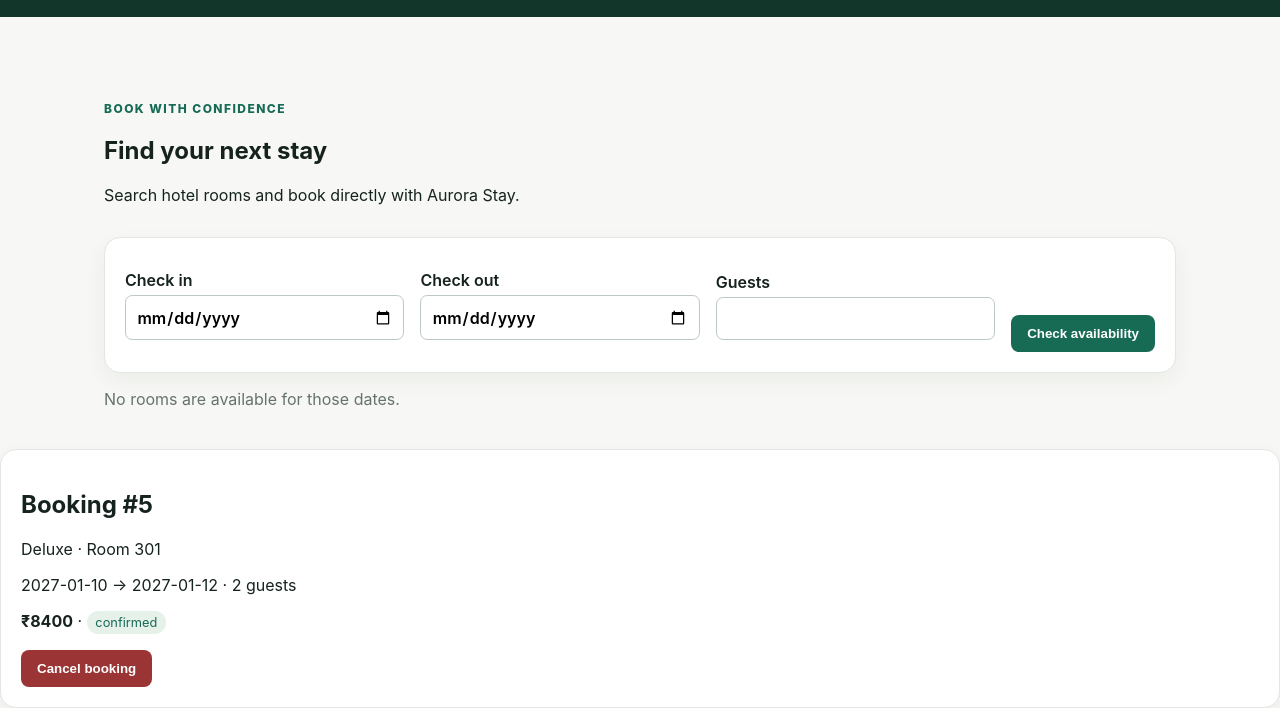
Test: cancellation is submitted only after explicit confirmation
This screenshot has width=1280, height=708.
(page scrolled)
Check: the heading "Booking #5" is shown, box [21, 490, 153, 519]
Click the button "Cancel booking": (87, 669) [21, 650, 152, 687]
(page scrolled)
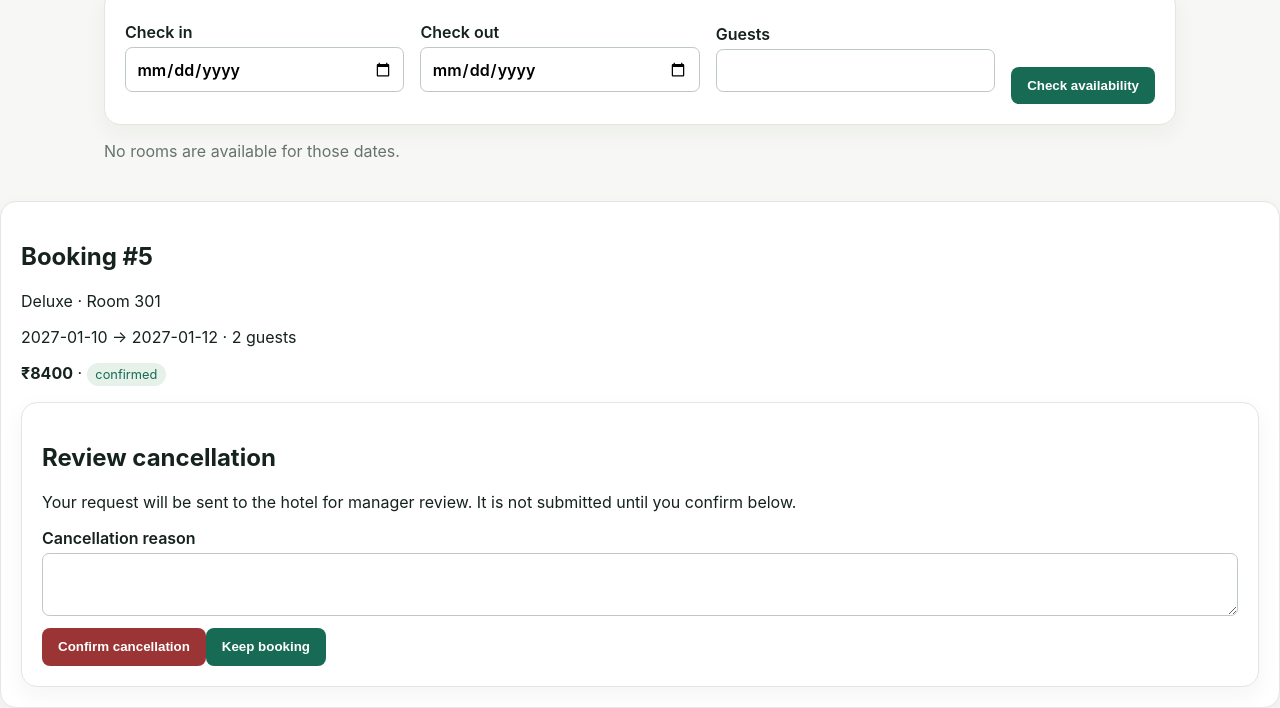
Check: the button "Confirm cancellation" is shown, box [42, 628, 206, 666]
In the text box labelled "Cancellation reason": (640, 585) [42, 553, 1238, 616], type "Plans changed"
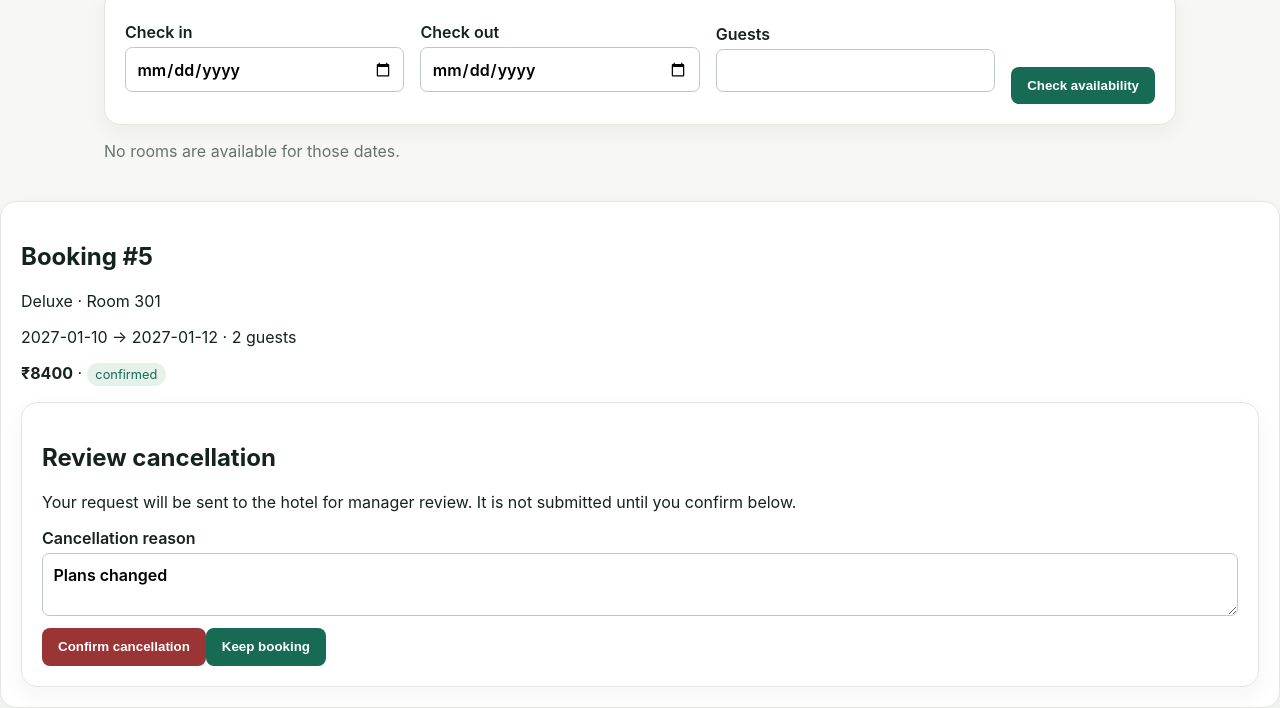
Click the button "Confirm cancellation": (124, 647) [42, 628, 206, 666]
(page scrolled)
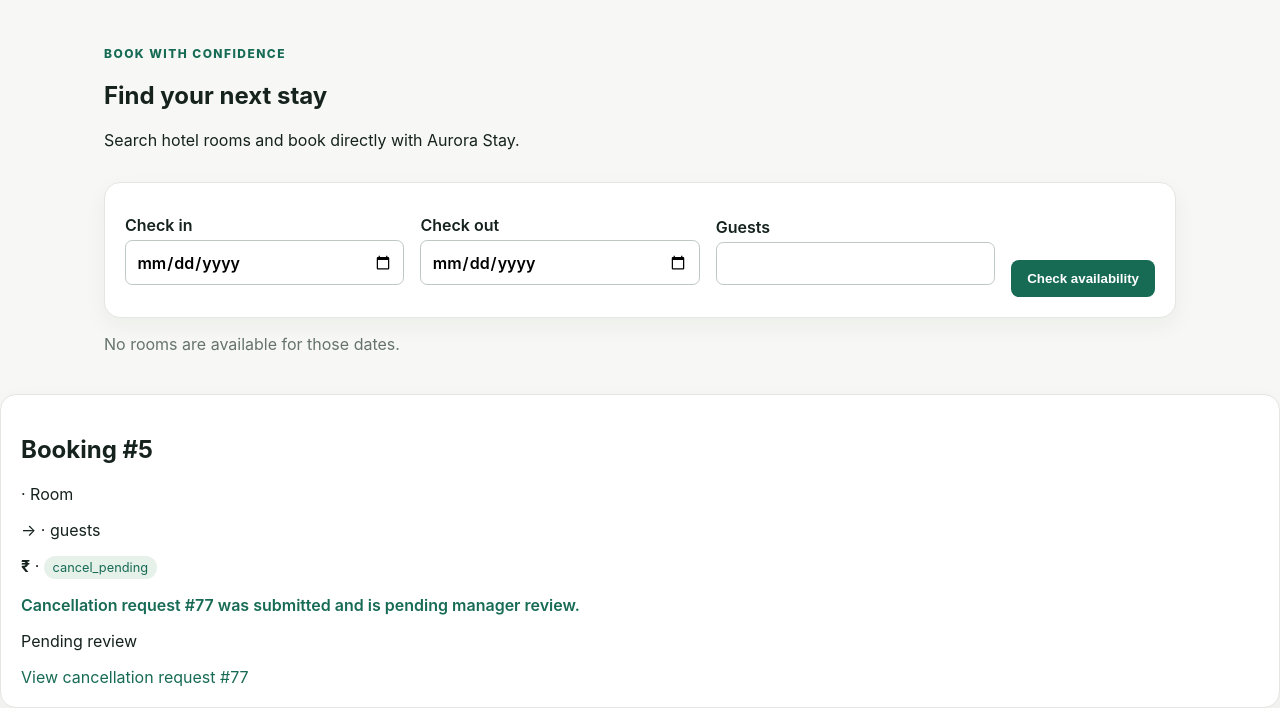
Check: the text "Cancellation request #77 was submitted" is shown, box [21, 595, 580, 615]
Check: the link "View cancellation request #77" is shown, box [21, 667, 248, 687]
